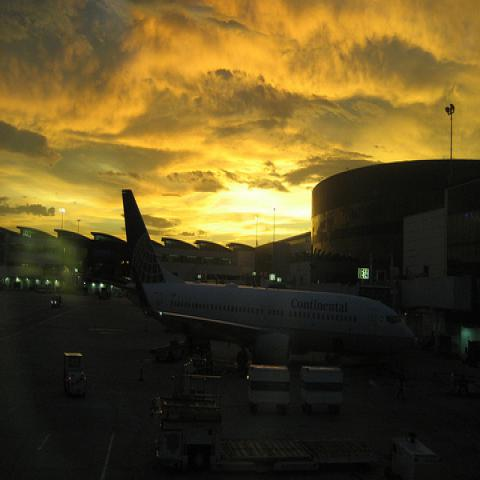truck: (63, 351, 87, 395)
